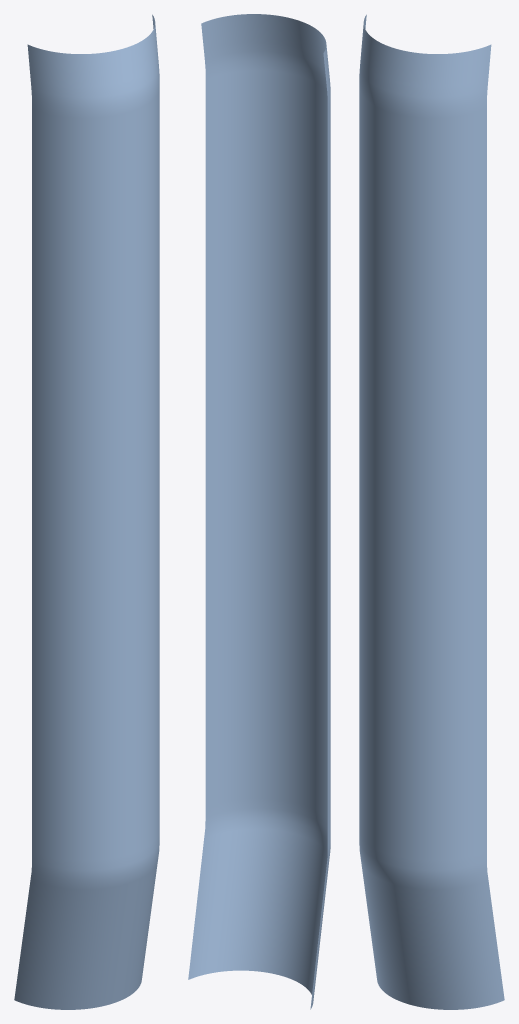
File: waterfall-tsl.glb
3 views of the same model, side by side, from view 1: azimuth 30°, elevation 25°; view 2: azimuth 150°, elevation 25°; view 3: azimuth 330°, elevation 25° (orthographic).
Visible parts, largest first — view 1: Waterfall_TSL; view 2: Waterfall_TSL; view 3: Waterfall_TSL.
Part boxes in pixels (x1,y1,x2,y2): Waterfall_TSL: (14, 14, 159, 1009); Waterfall_TSL: (188, 14, 330, 1009); Waterfall_TSL: (359, 14, 504, 1009).
Bounding box in the file's own units: 4.86 × 36 × 3.12.
